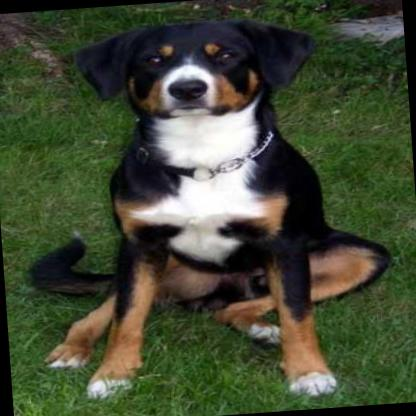EntleBucher: (3, 4, 392, 410)
